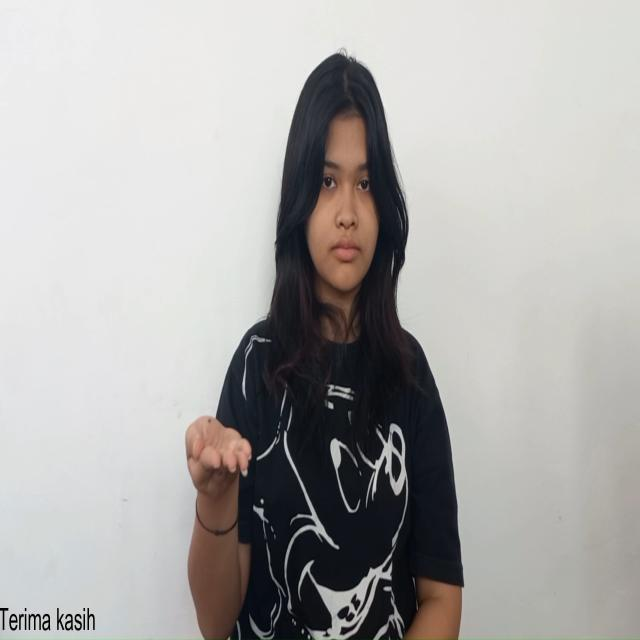Terima kasih -BISINDO-: (183, 409, 254, 512)
